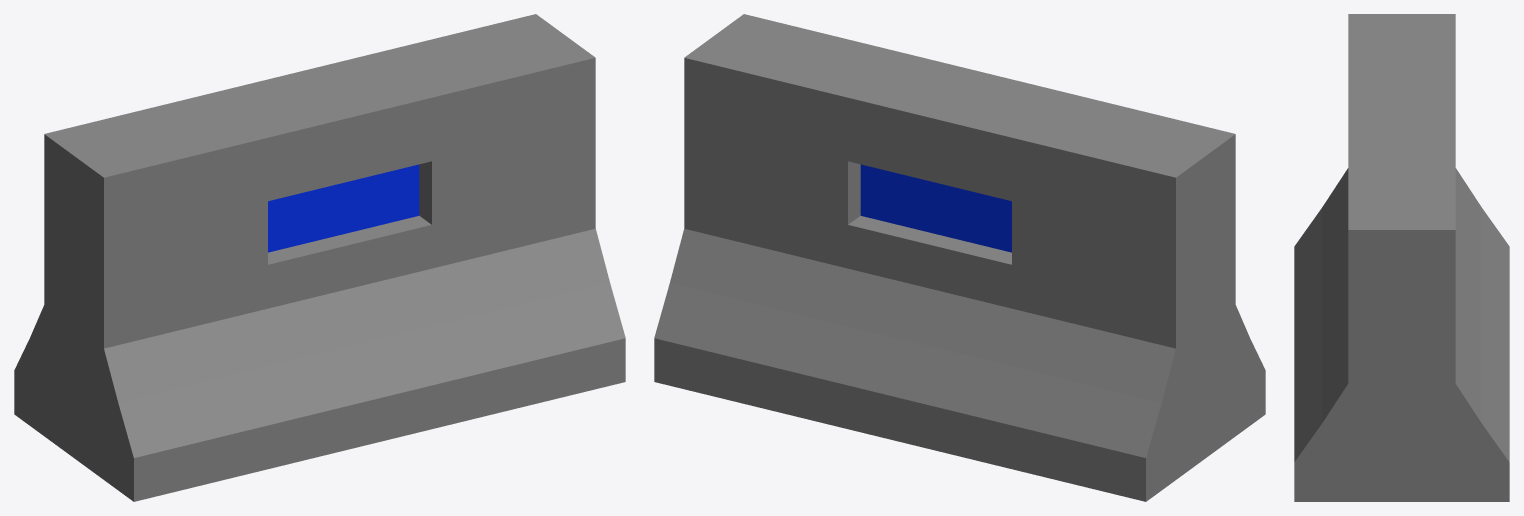
Rendered from Barracad.fbx.
The picture shows the model from 3 angles, left to right: view 1: azimuth 30°, elevation 25°; view 2: azimuth 150°, elevation 25°; view 3: azimuth 270°, elevation 25°; orthographic projection. The views are drawn at different scales.
Parts seen in each view (by area): view 1: Barracad; view 2: Barracad; view 3: Barracad.
Boxes of the visible parts, box(x1,y1,x2,y2) form: Barracad: box(14, 14, 625, 501); Barracad: box(654, 14, 1265, 501); Barracad: box(1294, 14, 1509, 501).
Bounding box in the file's own units: 515 × 303 × 217.
